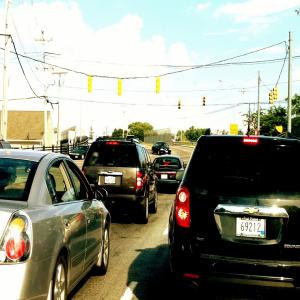Vehicle-registration-plate: (237, 216, 272, 250), (105, 178, 117, 188), (162, 175, 169, 180)
